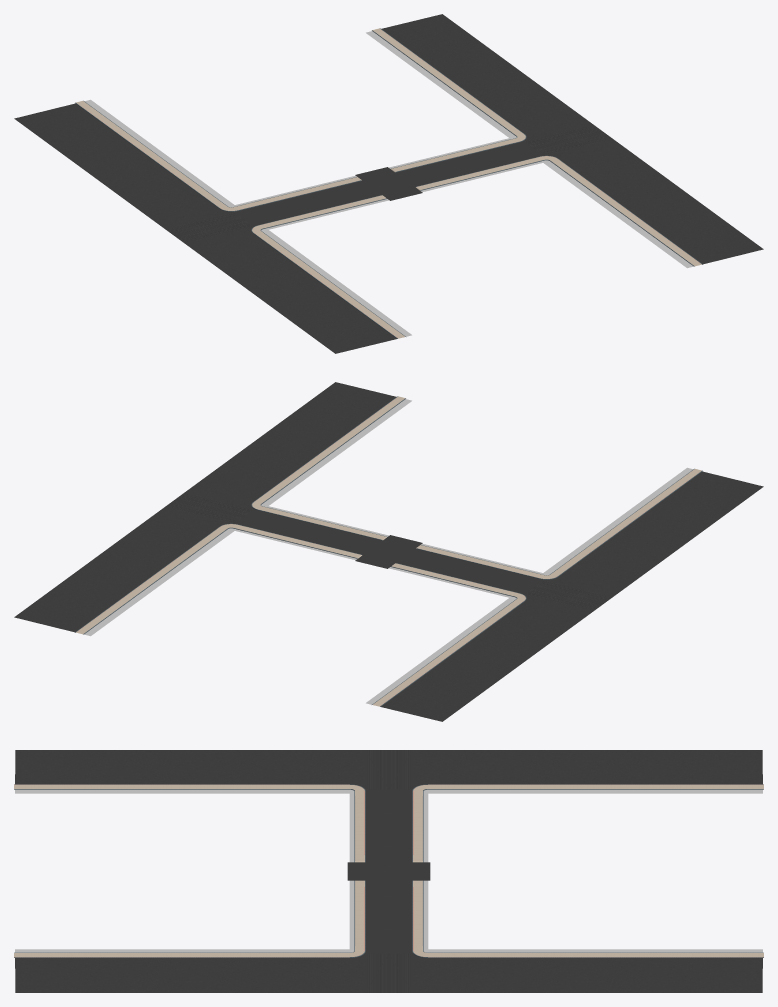
File: OutsideEnvi.fbx
The picture shows the model from 3 angles, top to bottom: view 1: azimuth 30°, elevation 25°; view 2: azimuth 150°, elevation 25°; view 3: azimuth 270°, elevation 25°; orthographic projection. The views are drawn at different scales.
Visible parts, largest first — view 1: Plane.019, Plane.024; view 2: Plane.019, Plane.024; view 3: Plane.019, Plane.024.
Boxes of the visible parts, left/top/right/bottom form: Plane.019: left=14, top=14, right=763, bottom=353; Plane.024: left=75, top=28, right=702, bottom=338; Plane.019: left=14, top=382, right=763, bottom=721; Plane.024: left=75, top=396, right=702, bottom=706; Plane.019: left=15, top=750, right=762, bottom=992; Plane.024: left=14, top=784, right=763, bottom=957.
Size of the model in its own units: 33730 by 32.47 by 43997.
